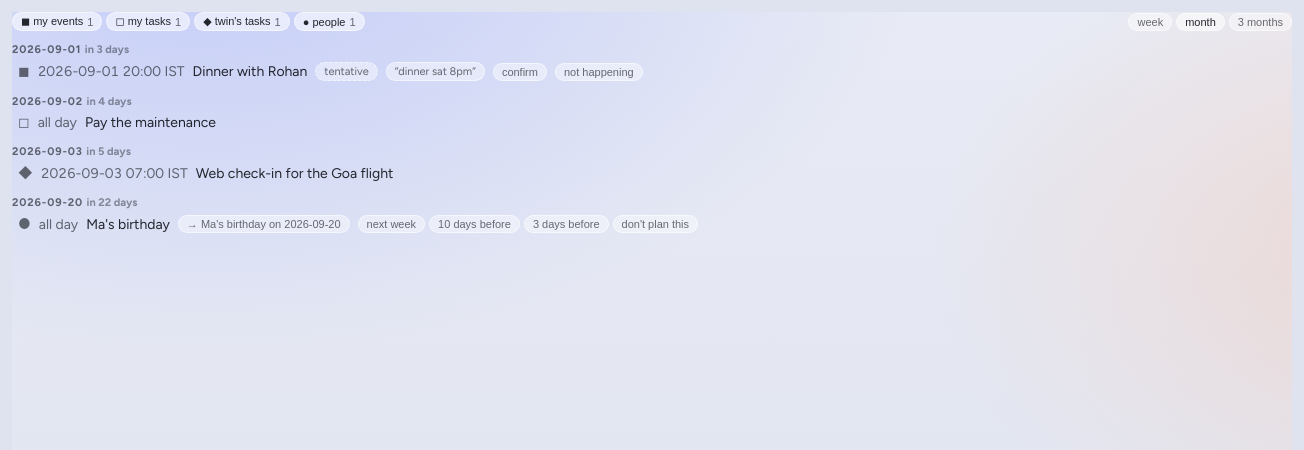
Test case: Calendar — layers separable (CAL-05) › 'my tasks' and 'twin's tasks' toggle independently
This screenshot has width=1304, height=450.
Expected: the text "Pay the maintenance" is shown, [85,114,216,131]
What coordinates should you click on to do the following:
click the button with aria-label "◻ my tasks layer"
I would click on:
 (148, 22)
Its box is [106,12,190,31].
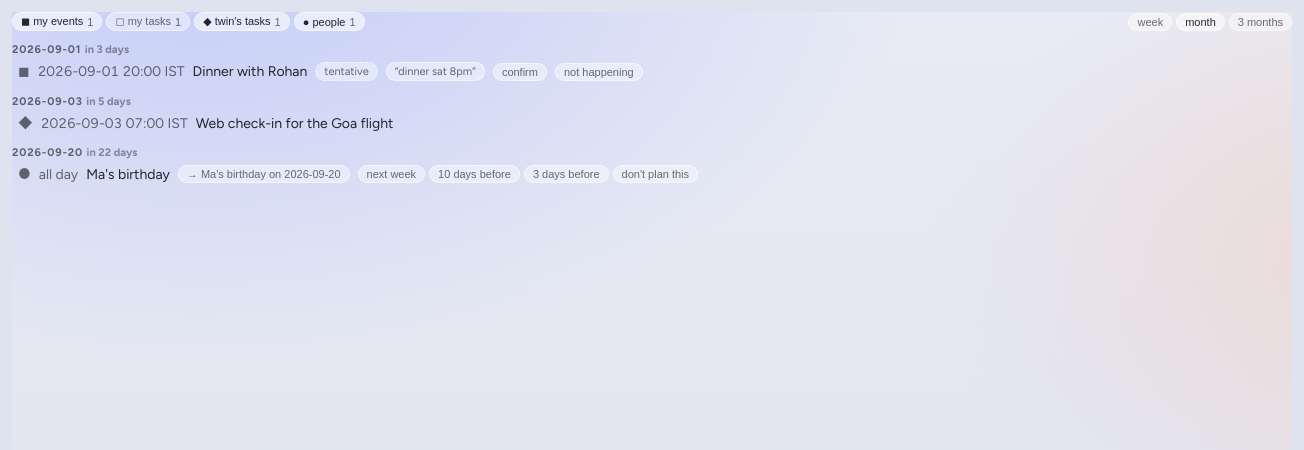
Expected: the text "Web check-in for the Goa flight" is shown, [196,114,393,132]
Result: the text "Pay the maintenance" is gone
What coordinates should you click on to do the following:
click the button with aria-label "◆ twin's tasks layer"
I would click on:
 (242, 22)
Its box is [194,12,290,31].
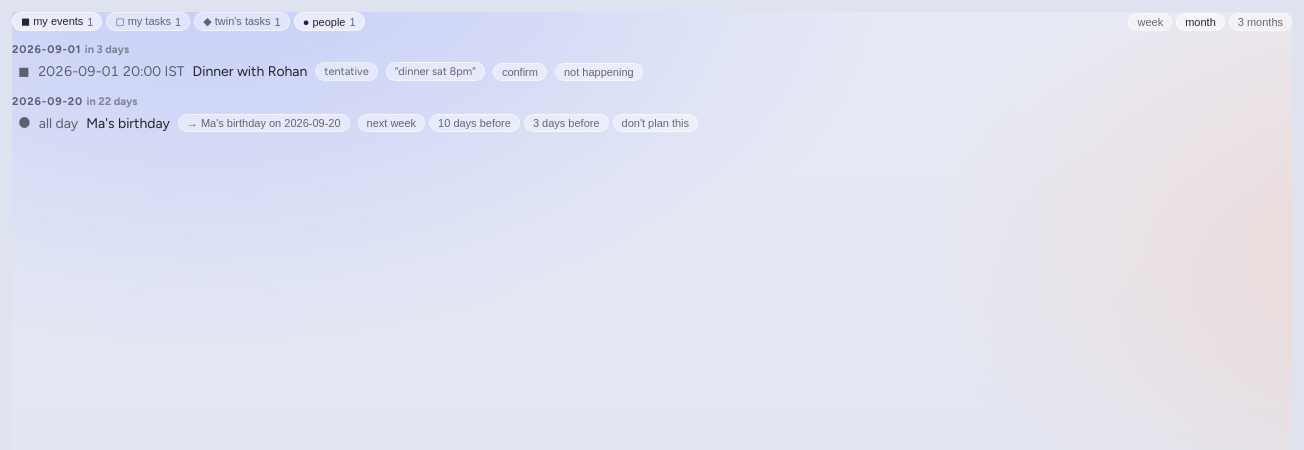
Expected: the text "Dinner with Rohan" is shown, [192,63,307,80]
Result: the text "Web check-in for the Goa flight" is gone
